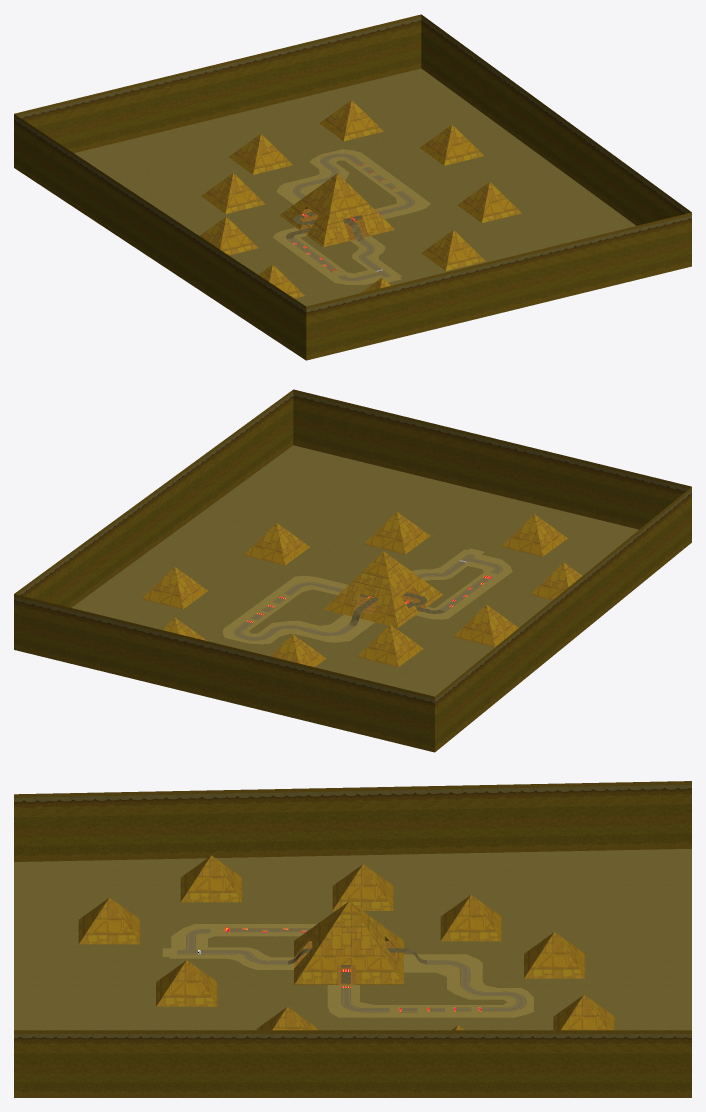
3 renders of one model, top to bottom at view 1: azimuth 30°, elevation 25°; view 2: azimuth 150°, elevation 25°; view 3: azimuth 270°, elevation 25°, orthographic. The views are drawn at different scales.
Visible parts, largest first — view 1: Pyramid_Way-SKP--dc_sandwall_071117a, Pyramid_Way-SKP--Sand_070827d, Pyramid_Way-SKP--dc_wall_070926c, Pyramid_Way-SKP--Sand_070827dmm1, Pyramid_Way-SKP--dc_Road_071025c_mipmm2; view 2: Pyramid_Way-SKP--dc_sandwall_071117a, Pyramid_Way-SKP--Sand_070827d, Pyramid_Way-SKP--dc_wall_070926c, Pyramid_Way-SKP--Sand_070827dmm1, Pyramid_Way-SKP--dc_Road_071025c_mipmm2, Pyramid_Way-SKP--dc_floor_checker_mipmm1; view 3: Pyramid_Way-SKP--dc_sandwall_071117a, Pyramid_Way-SKP--Sand_070827d, Pyramid_Way-SKP--dc_wall_070926c, Pyramid_Way-SKP--Sand_070827dmm1, Pyramid_Way-SKP--dc_Road_071025c_mipmm2, Pyramid_Way-SKP--dst_iwahada.
Part boxes in pixels (x1,y1,x2,y2): Pyramid_Way-SKP--dc_sandwall_071117a: (14,14,691,360); Pyramid_Way-SKP--Sand_070827d: (74,68,635,306); Pyramid_Way-SKP--dc_wall_070926c: (200,100,521,298); Pyramid_Way-SKP--Sand_070827dmm1: (273,149,430,284); Pyramid_Way-SKP--dc_Road_071025c_mipmm2: (287,153,414,281); Pyramid_Way-SKP--dc_sandwall_071117a: (14,389,691,752); Pyramid_Way-SKP--Sand_070827d: (71,445,638,696); Pyramid_Way-SKP--dc_wall_070926c: (141,512,581,667); Pyramid_Way-SKP--Sand_070827dmm1: (223,548,512,644); Pyramid_Way-SKP--dc_Road_071025c_mipmm2: (233,554,502,640); Pyramid_Way-SKP--dc_floor_checker_mipmm1: (348,592,445,625); Pyramid_Way-SKP--dc_sandwall_071117a: (14,781,691,1097); Pyramid_Way-SKP--Sand_070827d: (14,849,691,1030); Pyramid_Way-SKP--dc_wall_070926c: (78,855,614,1030); Pyramid_Way-SKP--Sand_070827dmm1: (162,924,533,1017); Pyramid_Way-SKP--dc_Road_071025c_mipmm2: (177,928,526,1012); Pyramid_Way-SKP--dst_iwahada: (294,941,398,984).
Size of the model in its own units: 292863 by 37376 by 336800.
11 materials, 10 textured.
